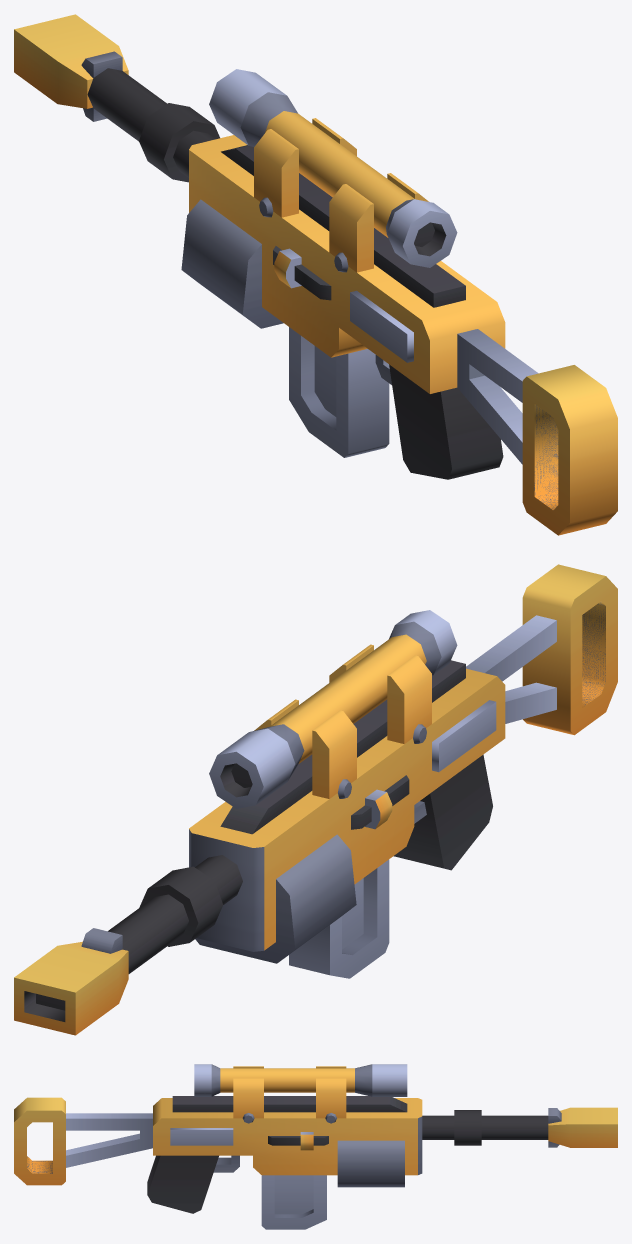
File: blaster-e.glb
3 renders of one model, top to bottom at view 1: azimuth 30°, elevation 25°; view 2: azimuth 150°, elevation 25°; view 3: azimuth 270°, elevation 25°, orthographic. The views are drawn at different scales.
Parts seen in each view (by area): view 1: blaster-e, scope, magazine; view 2: blaster-e, scope, magazine; view 3: blaster-e, scope, magazine.
Boxes of the visible parts, box(x1,y1,x2,y2) form: blaster-e: box(14, 14, 617, 535); scope: box(209, 69, 457, 272); magazine: box(289, 327, 389, 457); blaster-e: box(14, 564, 617, 1035); scope: box(209, 610, 457, 808); magazine: box(289, 859, 389, 978); blaster-e: box(14, 1096, 617, 1213); scope: box(194, 1064, 407, 1123); magazine: box(261, 1175, 326, 1229).
Bounding box in the file's own units: 0.1664 × 0.405 × 1.39.
Materials: 1 (1 with a texture image).
